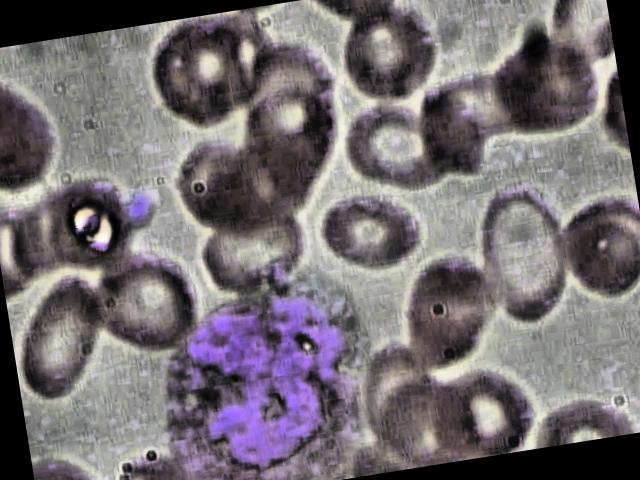Platelets: (116, 181, 163, 232)
RBC: (464, 177, 576, 338), (140, 10, 272, 138), (4, 267, 119, 412), (484, 30, 612, 148), (384, 248, 498, 378), (88, 237, 206, 360), (551, 162, 640, 319), (419, 360, 544, 466), (334, 95, 460, 200), (334, 0, 439, 116), (196, 197, 311, 301), (310, 186, 430, 276)
WBC: (140, 268, 392, 480)
